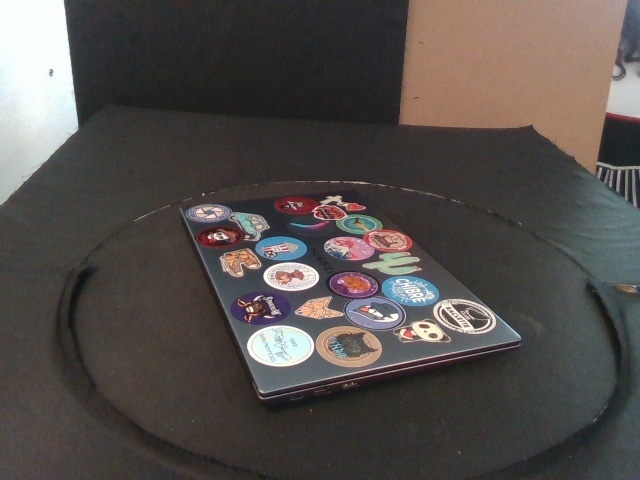laptop: (178, 190, 524, 412)
